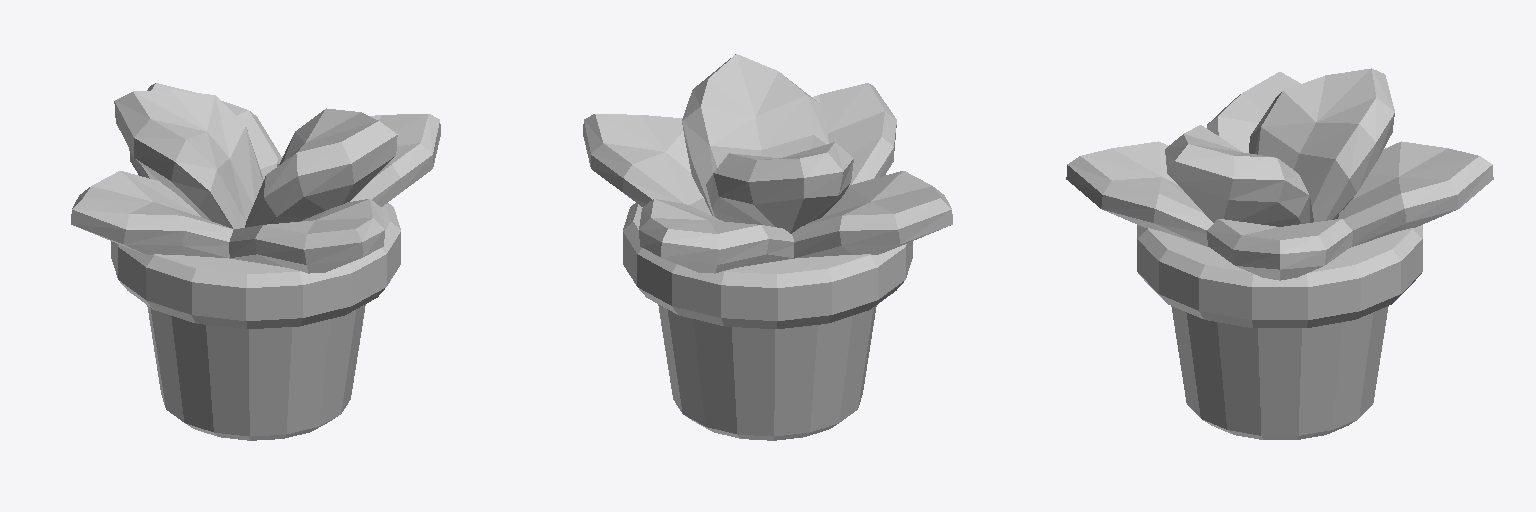
The model's file is plant.obj.
The picture shows the model from 3 angles: view 1: azimuth 30°, elevation 25°; view 2: azimuth 150°, elevation 25°; view 3: azimuth 270°, elevation 25°; orthographic projection.
Visible parts, largest first — view 1: plant; view 2: plant; view 3: plant.
Part boxes in pixels (x1,y1,x2,y2): plant: (71,83,440,440); plant: (583,54,952,440); plant: (1066,68,1493,439).
Size of the model in its own units: 0.8225 by 0.6365 by 0.8225.